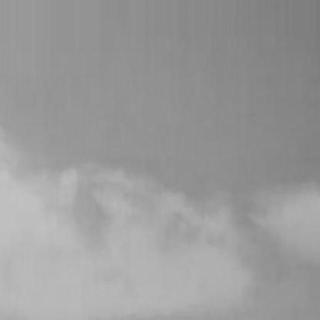other: (13, 149, 235, 290)
